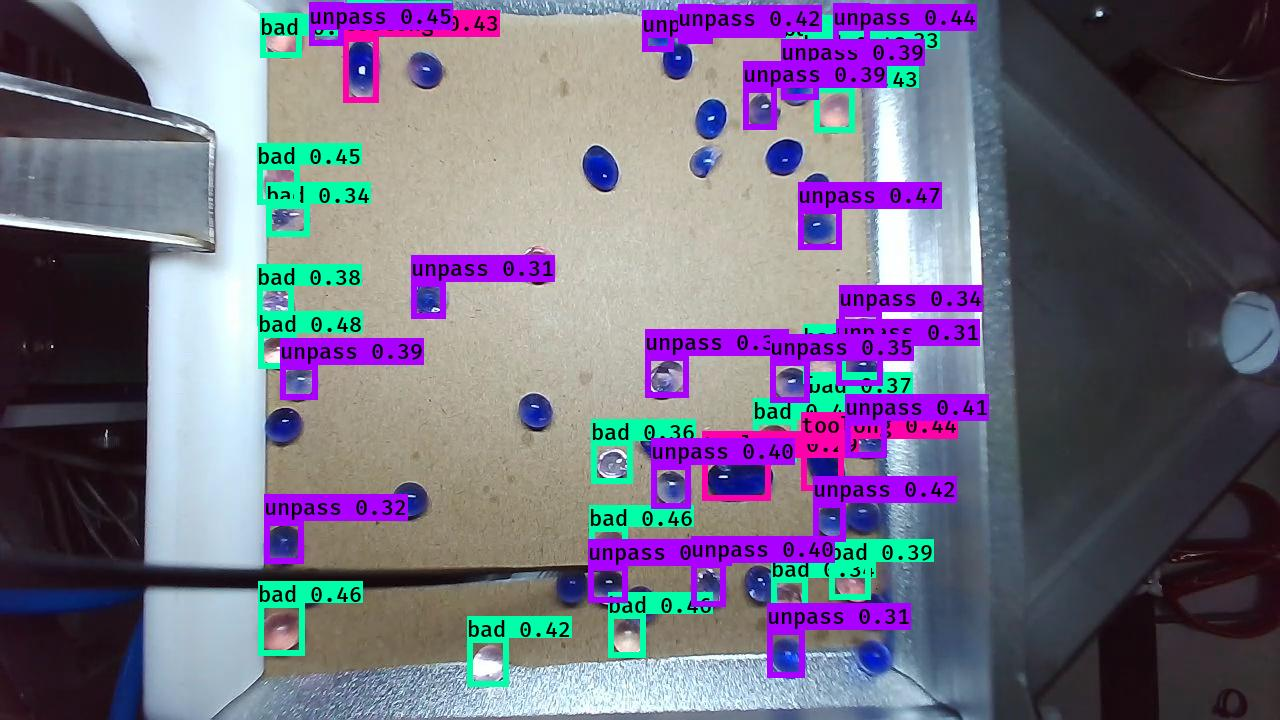bad: (259, 610, 306, 655), (261, 14, 305, 59), (785, 15, 827, 62), (842, 388, 887, 431), (469, 643, 508, 689), (517, 246, 558, 287), (831, 564, 872, 604), (816, 92, 854, 134), (261, 168, 303, 205), (608, 621, 649, 658), (266, 203, 311, 236), (344, 2, 384, 39), (589, 529, 629, 566), (259, 290, 297, 326), (754, 425, 792, 460), (804, 51, 840, 87), (260, 335, 298, 369), (808, 397, 845, 431), (774, 582, 806, 621), (839, 50, 872, 87), (594, 447, 629, 481), (805, 350, 840, 382)
defact: (684, 145, 727, 182), (744, 92, 783, 129)
pass: (578, 144, 622, 194), (639, 421, 682, 463), (263, 405, 304, 447), (694, 96, 731, 142), (390, 481, 431, 522), (764, 138, 805, 178), (408, 281, 447, 321), (517, 392, 552, 433), (856, 592, 891, 631), (661, 42, 695, 82), (554, 574, 587, 605)
toolong: (708, 458, 776, 502), (799, 434, 847, 493), (343, 39, 384, 102)
unpass: (835, 7, 875, 57), (645, 356, 686, 399), (766, 638, 809, 678), (651, 468, 690, 512), (689, 565, 727, 610), (846, 495, 884, 540), (798, 209, 843, 246), (263, 526, 303, 567), (742, 562, 780, 605), (854, 640, 895, 678), (812, 504, 850, 545), (622, 585, 659, 627), (840, 315, 885, 349), (841, 351, 882, 388), (408, 52, 446, 91), (799, 172, 835, 212), (843, 429, 890, 459), (676, 6, 712, 44), (772, 368, 808, 404), (310, 6, 344, 43), (643, 13, 675, 52), (781, 73, 817, 107), (590, 572, 627, 605), (281, 369, 319, 401)
